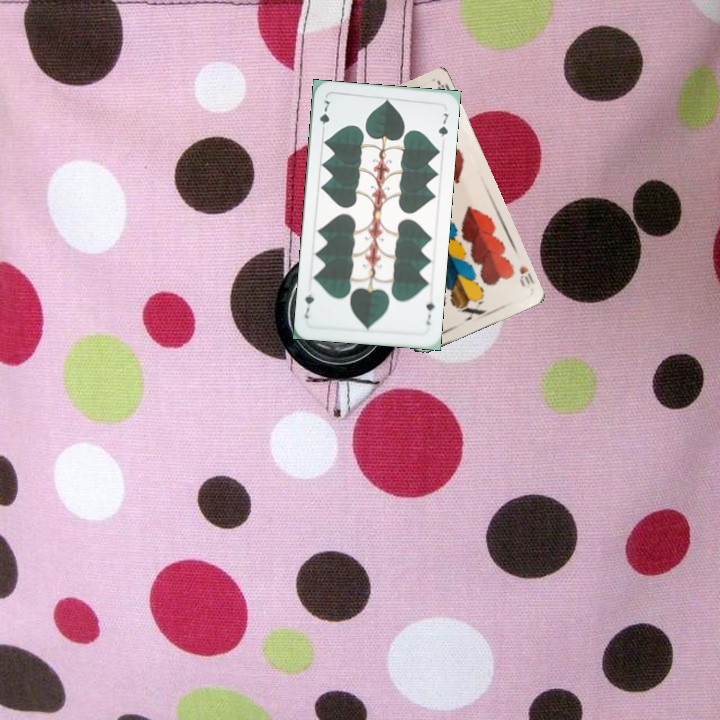G7: (316, 96, 332, 136), (422, 293, 437, 328)
H10: (515, 262, 537, 289)
